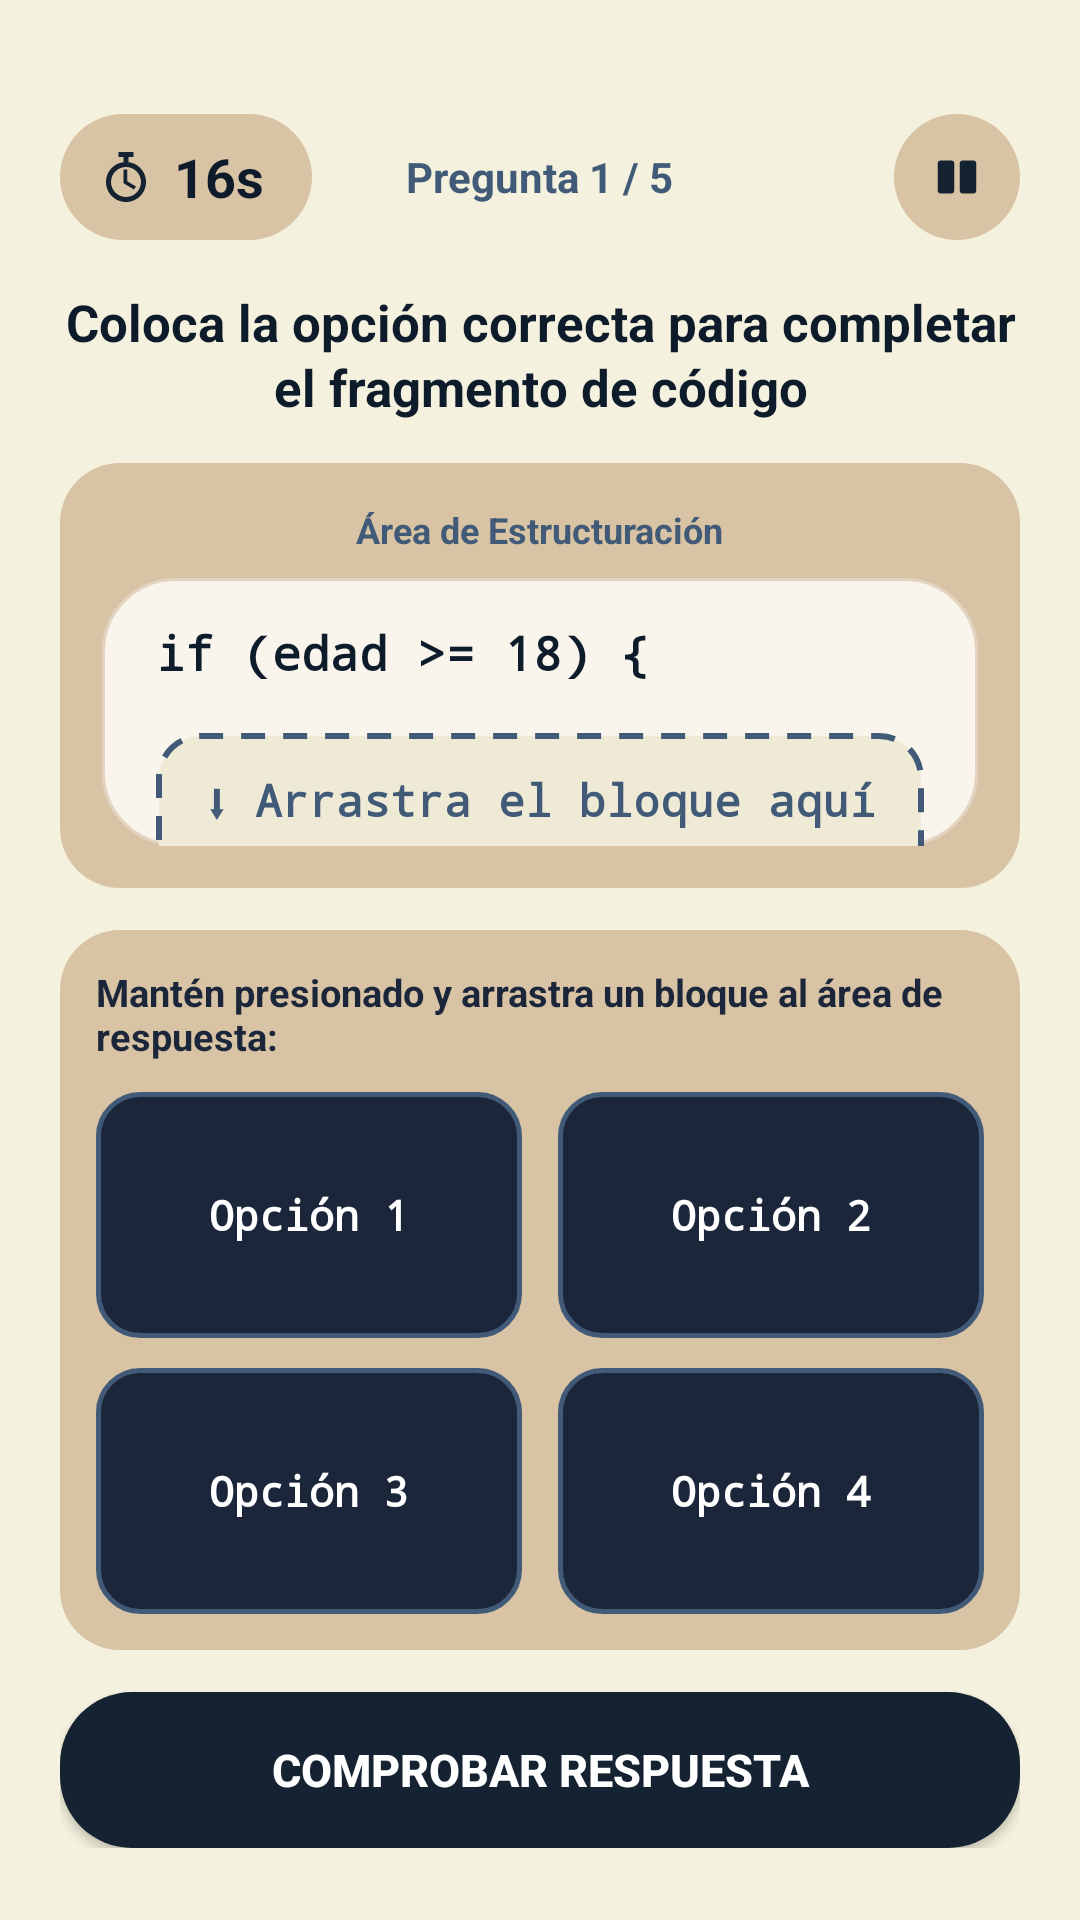

Named icons in this screenshot (1080*1920) and their centers, [x,y]:
Pausa: [957,177]
Temporizador: [126,177]
